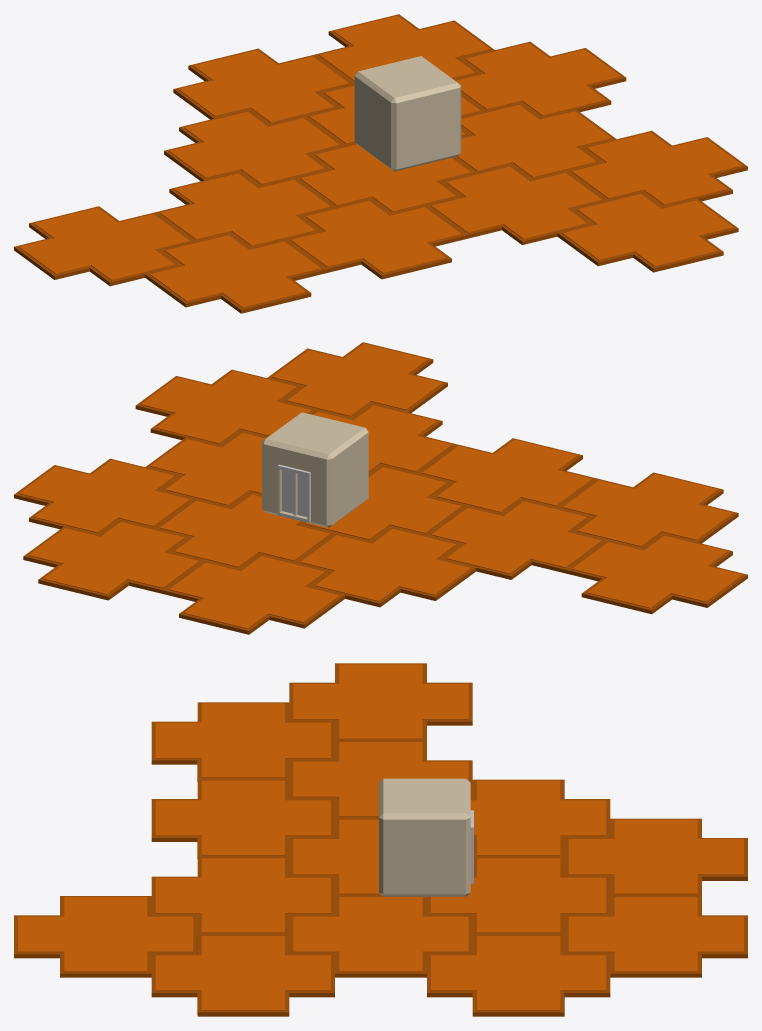
The model's file is Tile.fbx.
3 renders of one model, top to bottom at view 1: azimuth 30°, elevation 25°; view 2: azimuth 150°, elevation 25°; view 3: azimuth 270°, elevation 25°, orthographic. The views are drawn at different scales.
Visible parts, largest first — view 1: Cube.008, Cube.012, Cube.007, Cube.005, Cube.010, Cube.004, Cube.006, Cube.009, Cube.013, Cube.002, Cube.011, Cube.001 (+3 smaller); view 2: Cube.008, Cube.010, Cube.013, Cube.014, Cube.009, Cube.011, Cube.002, Cube.007, Cube.012, Cube.005, Cube.006, Cube.003 (+3 smaller); view 3: Cube.002, Cube.006, Cube.012, Cube.014, Cube.001, Cube.008, Cube.007, Cube.005, Cube.010, Cube.013, Cube.004, Cube.003 (+3 smaller).
Part boxes in pixels (x1=…): Cube.008: x1=354, y1=56, x2=461, y2=171; Cube.012: x1=557, y1=192, x2=738, y2=272; Cube.007: x1=145, y1=233, x2=326, y2=313; Cube.005: x1=286, y1=199, x2=466, y2=279; Cube.010: x1=14, y1=206, x2=194, y2=286; Cube.004: x1=426, y1=165, x2=606, y2=244; Cube.006: x1=567, y1=130, x2=747, y2=206; Cube.009: x1=164, y1=110, x2=344, y2=186; Cube.013: x1=173, y1=48, x2=353, y2=124; Cube.002: x1=454, y1=41, x2=626, y2=117; Cube.011: x1=155, y1=172, x2=335, y2=248; Cube.001: x1=454, y1=103, x2=616, y2=179; Cube.008: x1=262, y1=412, x2=368, y2=527; Cube.010: x1=567, y1=534, x2=747, y2=614; Cube.013: x1=164, y1=554, x2=344, y2=634; Cube.014: x1=23, y1=520, x2=203, y2=600; Cube.009: x1=295, y1=527, x2=476, y2=607; Cube.011: x1=426, y1=500, x2=606, y2=579; Cube.002: x1=14, y1=458, x2=194, y2=534; Cube.007: x1=557, y1=472, x2=738, y2=548; Cube.012: x1=267, y1=342, x2=447, y2=418; Cube.005: x1=417, y1=438, x2=597, y2=514; Cube.006: x1=135, y1=369, x2=316, y2=445; Cube.003: x1=155, y1=493, x2=335, y2=569; Cube.002: x1=427, y1=935, x2=610, y2=1016; Cube.006: x1=151, y1=935, x2=334, y2=1016; Cube.012: x1=14, y1=896, x2=197, y2=977; Cube.014: x1=564, y1=896, x2=747, y2=977; Cube.001: x1=289, y1=896, x2=472, y2=977; Cube.008: x1=379, y1=778, x2=473, y2=896; Cube.007: x1=151, y1=702, x2=334, y2=781; Cube.005: x1=151, y1=779, x2=334, y2=858; Cube.010: x1=289, y1=663, x2=472, y2=740; Cube.013: x1=564, y1=818, x2=747, y2=895; Cube.004: x1=151, y1=857, x2=334, y2=936; Cube.003: x1=427, y1=857, x2=610, y2=934.
Bounding box in the file's own units: 180000 × 21395 × 160000.
